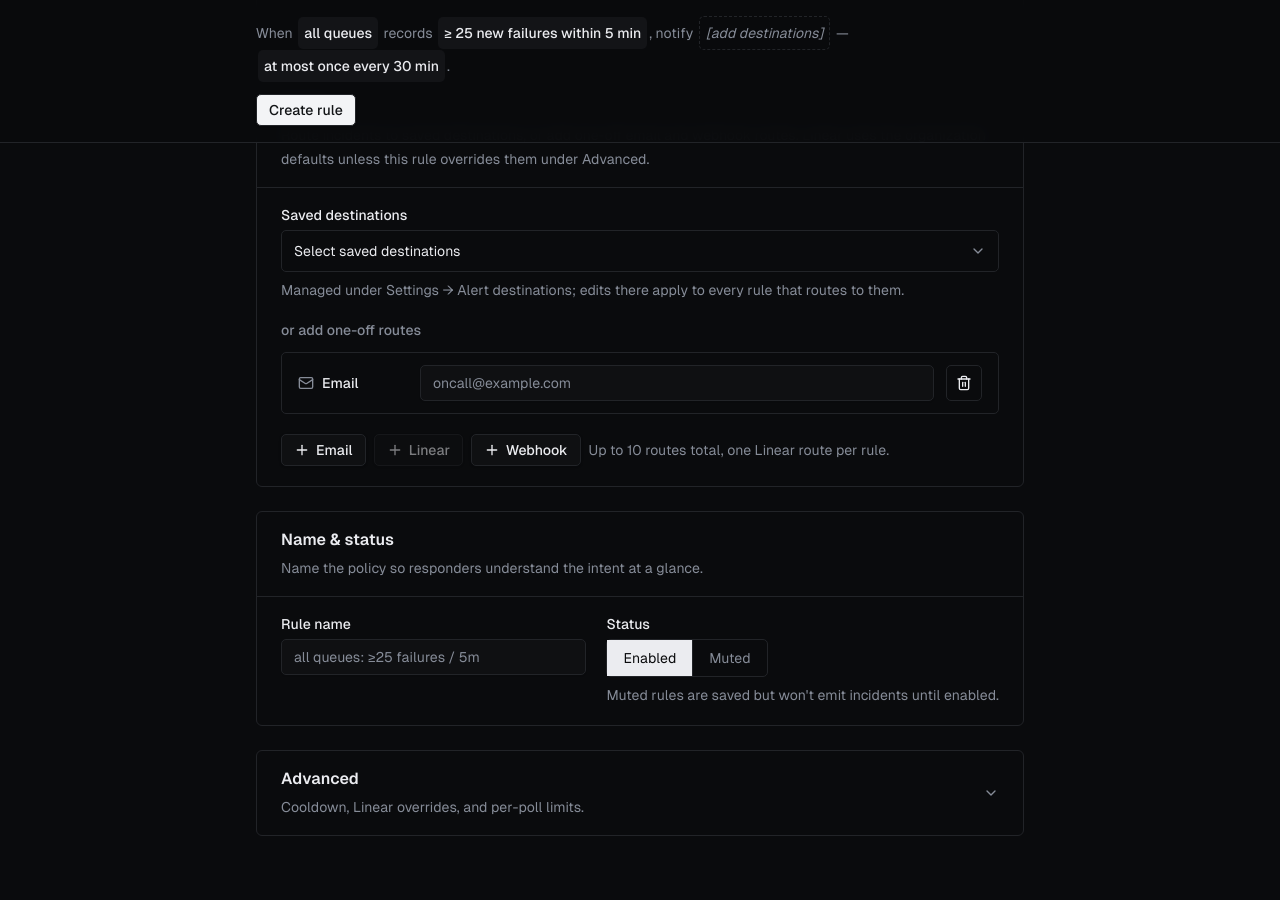
Test case: AlertRuleBuilder › only shows validation errors for touched fields before submit
(page scrolled)
Check: the text "Rule name is required." is not shown
Click the field with test id "alert-rule-name-input" at (434, 657), box x1=281 y1=639 x2=586 y2=675
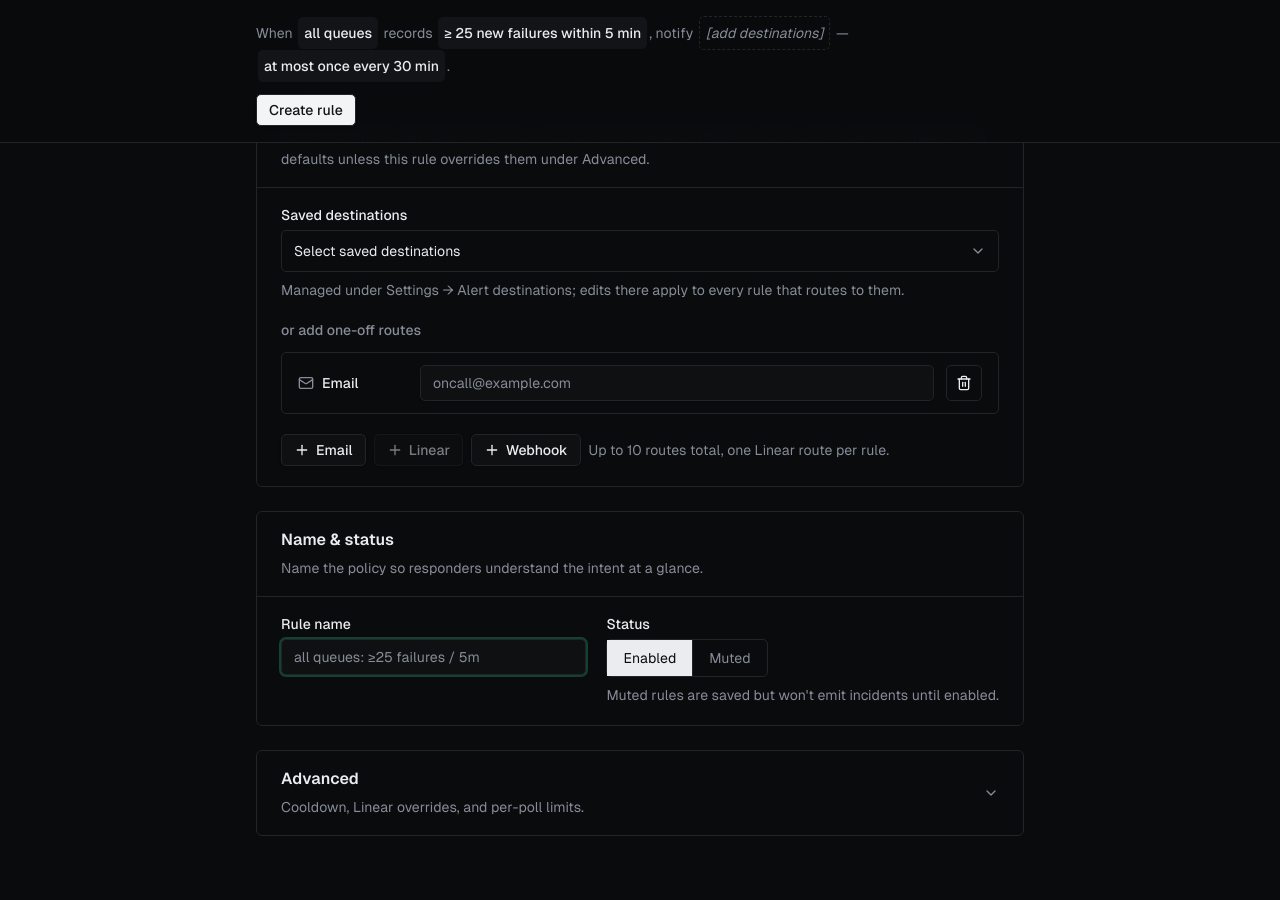
Press Tab
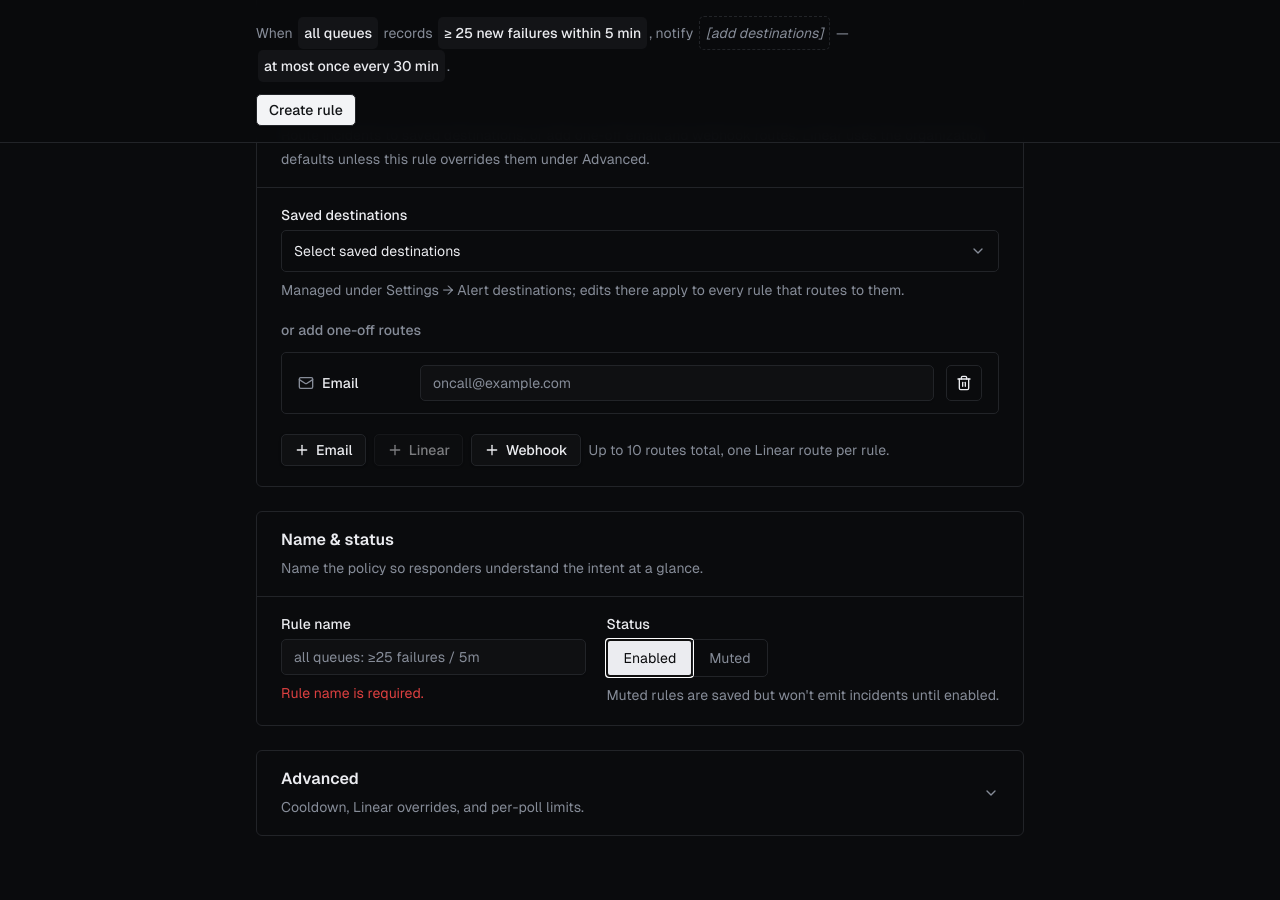
Check: the text "Rule name is required." is shown, box x1=281 y1=685 x2=424 y2=701
